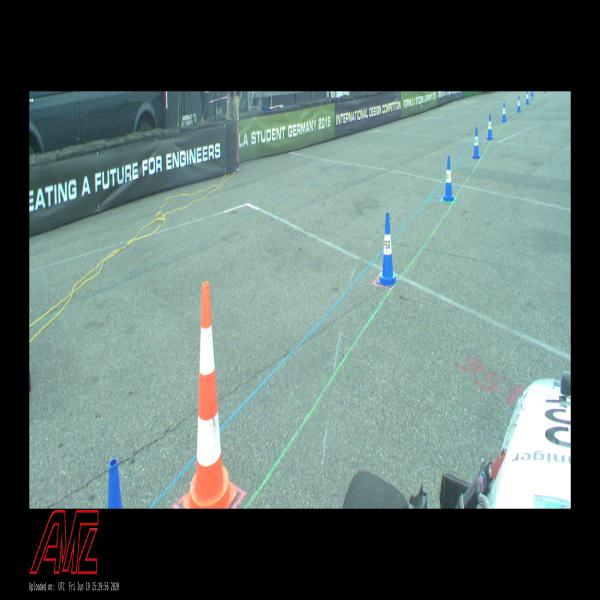blue_cone: (377, 212, 398, 288), (108, 459, 123, 508), (443, 157, 454, 202), (473, 127, 480, 159), (486, 114, 493, 140), (502, 102, 506, 122), (516, 95, 520, 112), (526, 92, 529, 104)
large_orange_cone: (182, 281, 237, 508)
